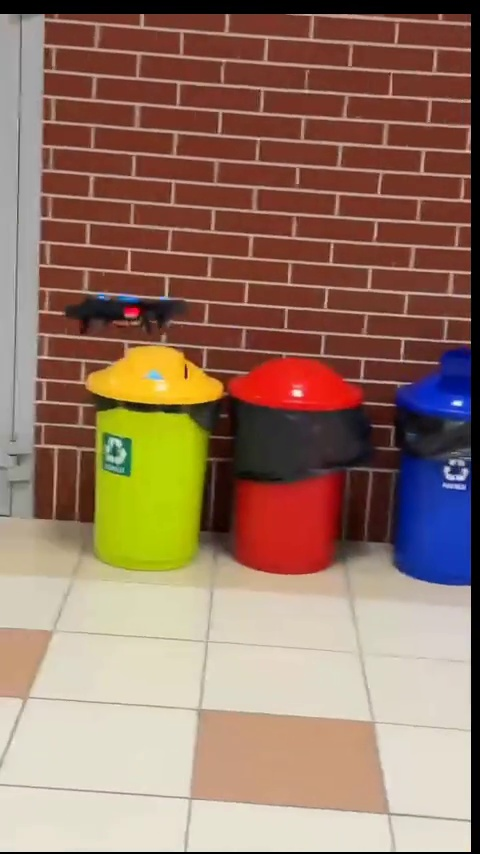drone: (60, 290, 192, 341)
